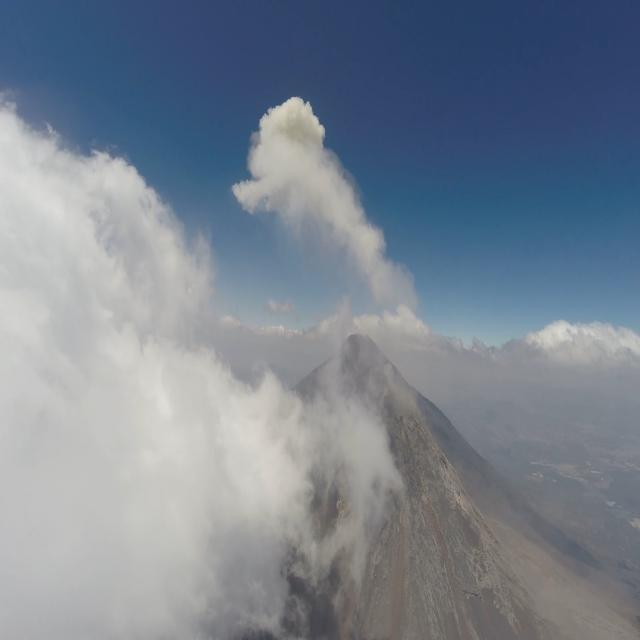Plume: (232, 90, 428, 298)
Summit: (298, 330, 463, 440)
